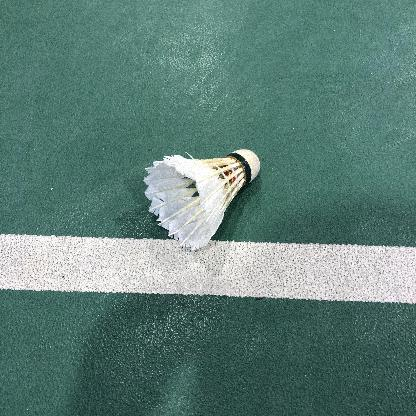ball_single: (143, 149, 260, 250)
